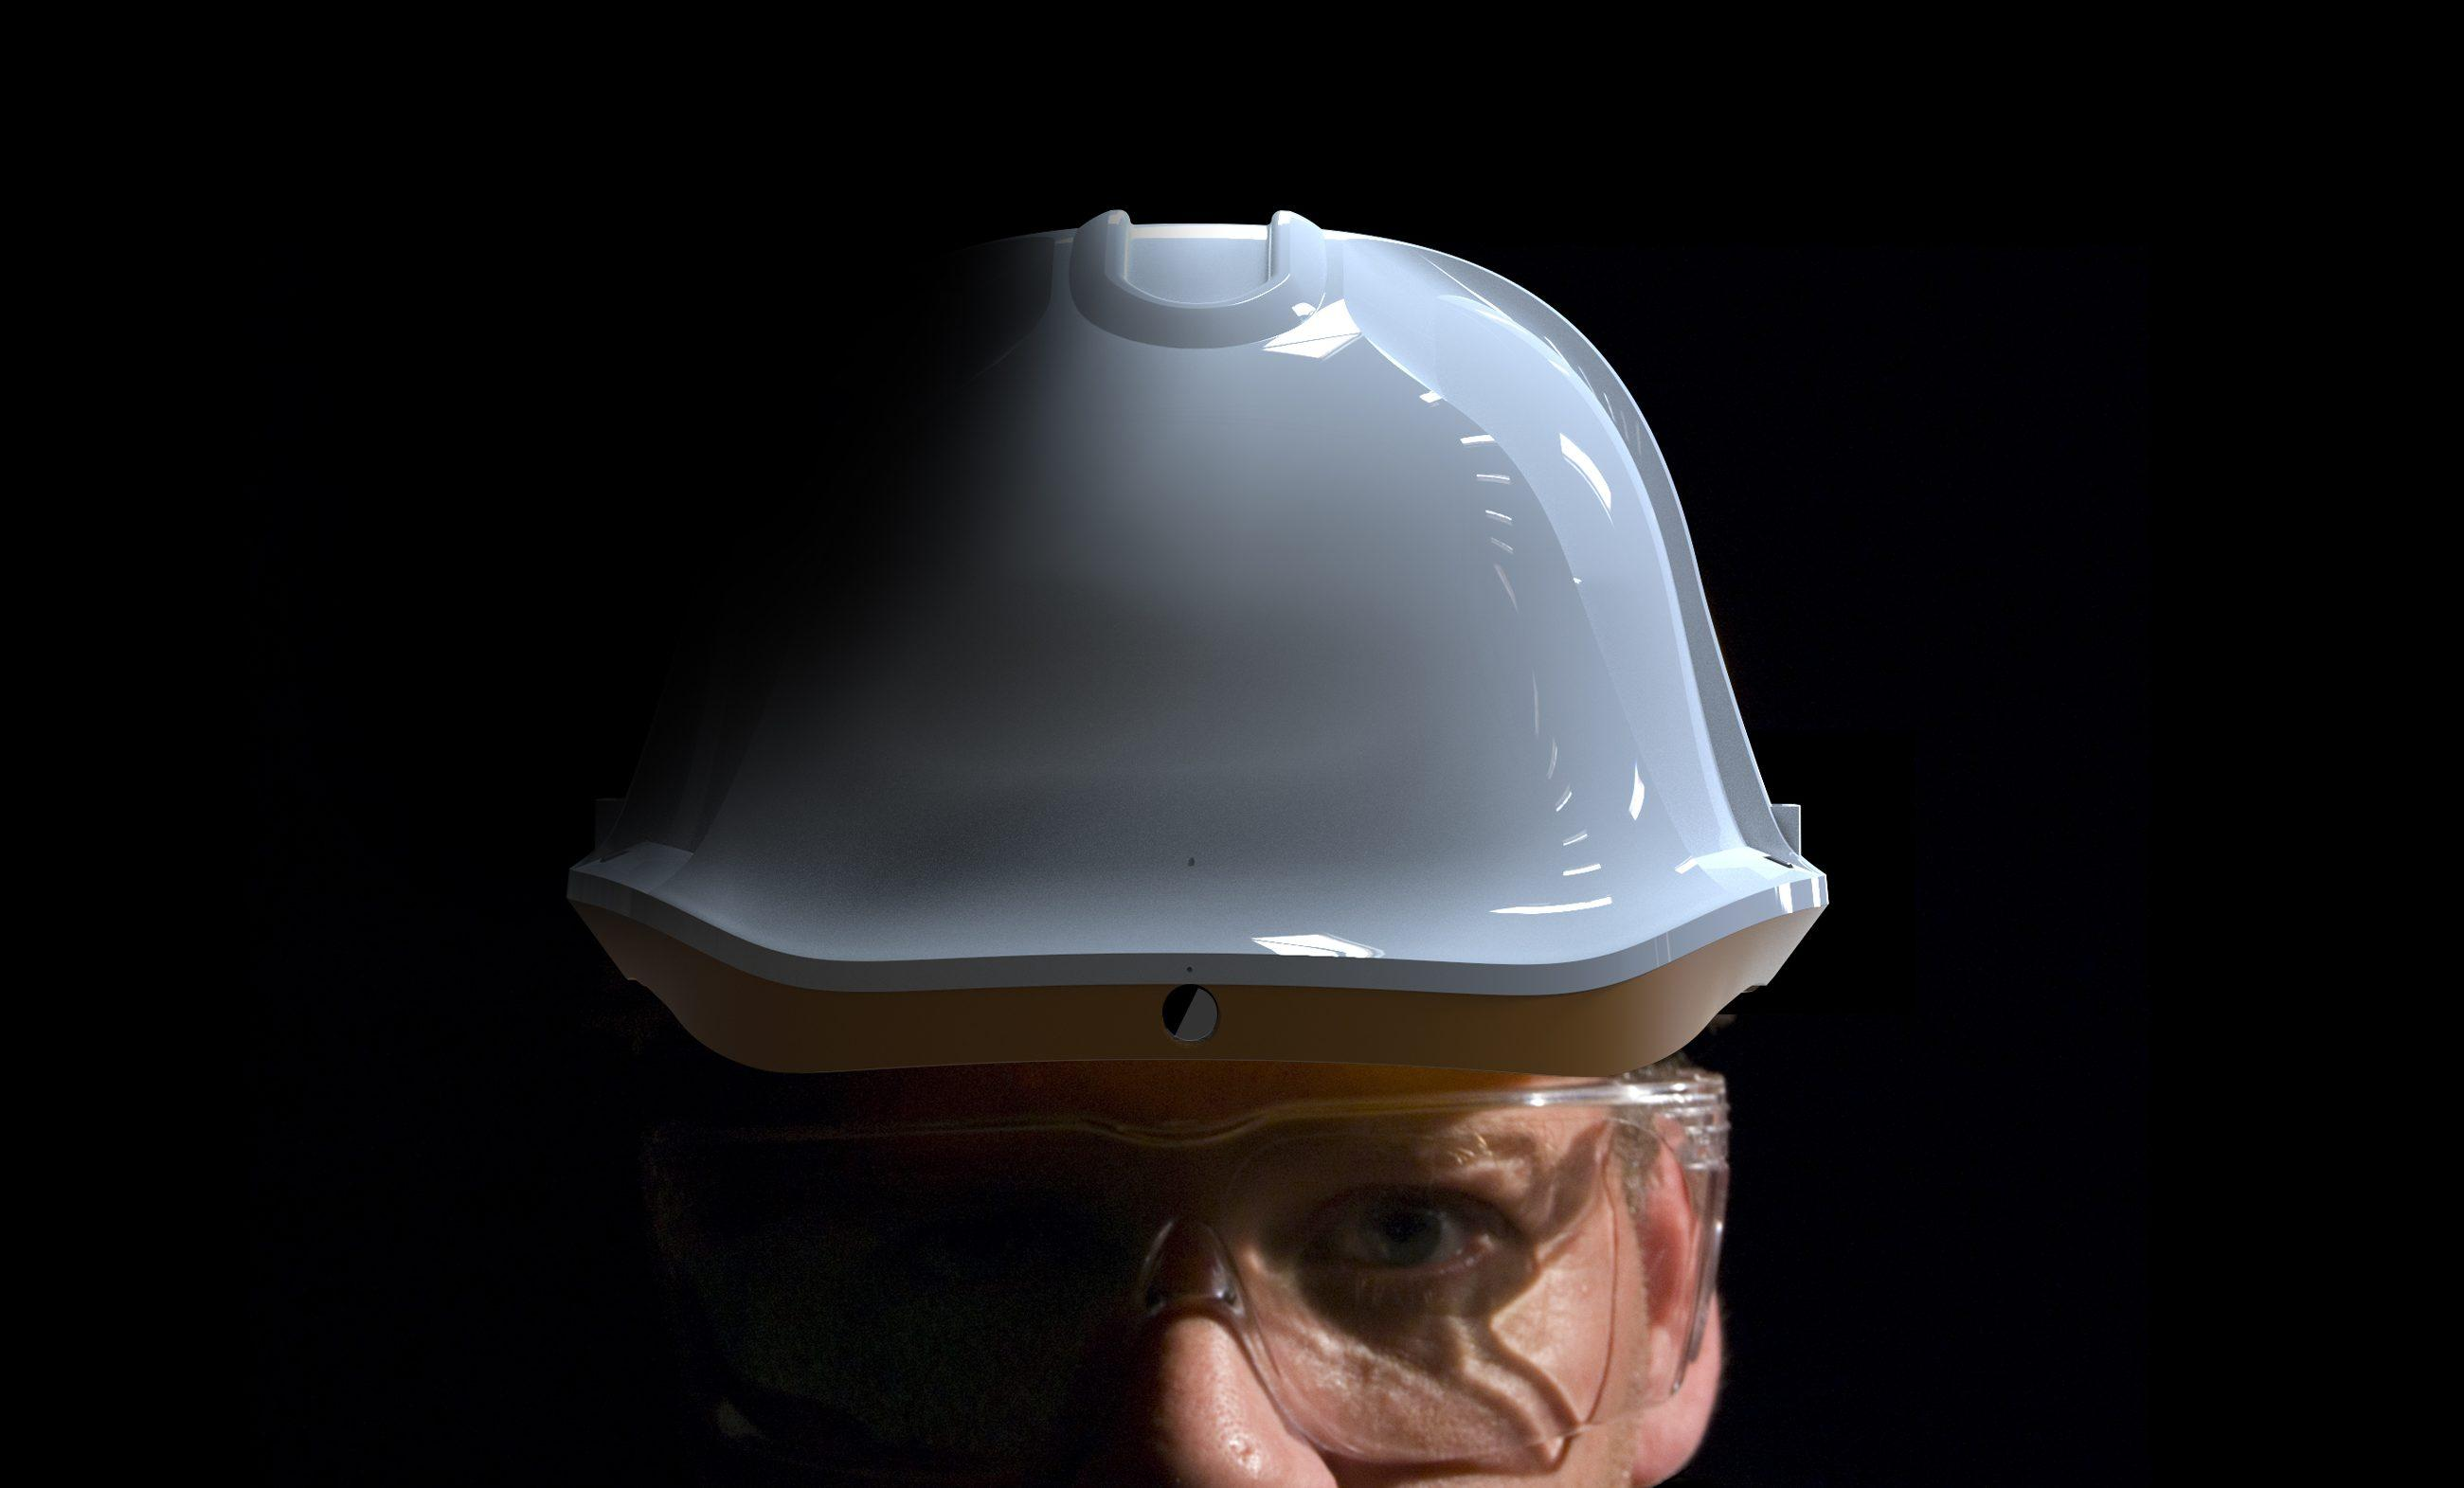helmet: (561, 213, 1799, 1152)
